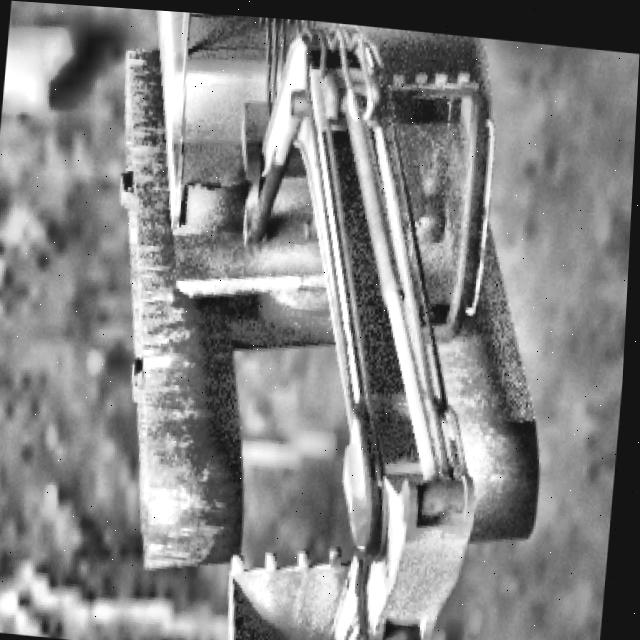excavator: (81, 6, 575, 640)
